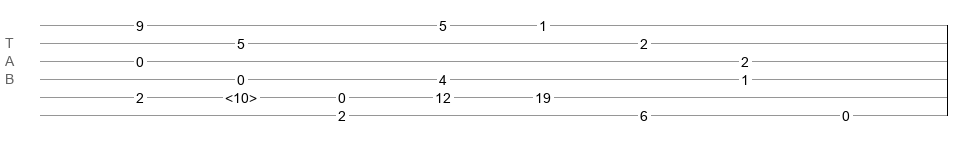0: (136, 54, 144, 64), (237, 72, 245, 82), (338, 90, 346, 100), (842, 108, 850, 118)
1: (539, 18, 547, 28), (741, 72, 749, 82)
12: (435, 90, 451, 100)
19: (535, 90, 551, 100)
2: (136, 90, 144, 100), (338, 108, 346, 118), (640, 36, 648, 46), (741, 54, 749, 64)
4: (439, 72, 447, 82)
5: (237, 36, 245, 46), (439, 18, 447, 28)
6: (640, 108, 648, 118)
9: (136, 18, 144, 28)
harmonic: (225, 90, 257, 100)
